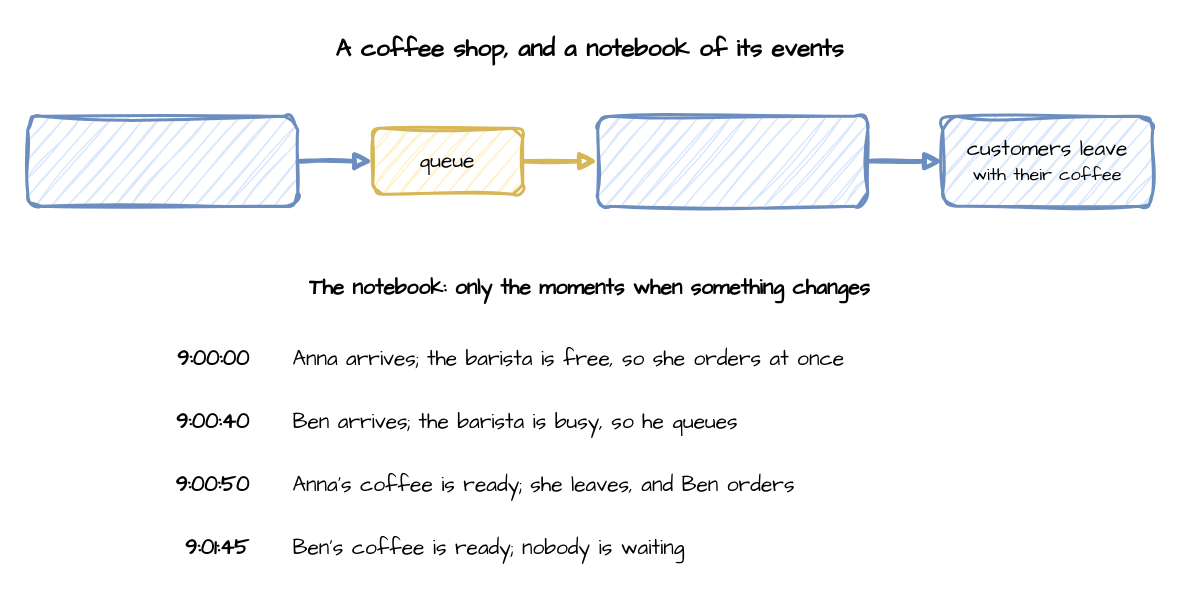
Some shapes in this 1179 by 599 pixel diagram are drawn without their labels. The centre of each missing label's shape, as x and y in pixels:
barista about 50 s a coffee: [732,160]
customers arrive about one a minute: [162,160]
